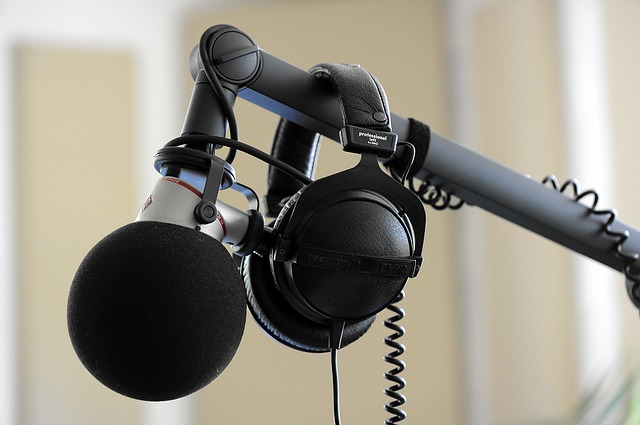headphones: (237, 63, 426, 354)
